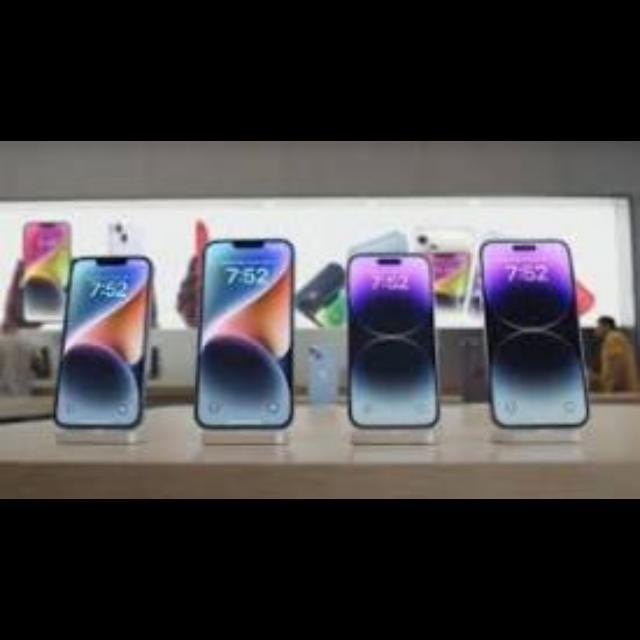PhoneUse: (472, 235, 590, 430), (202, 241, 296, 431), (344, 253, 442, 432), (52, 253, 148, 429)
